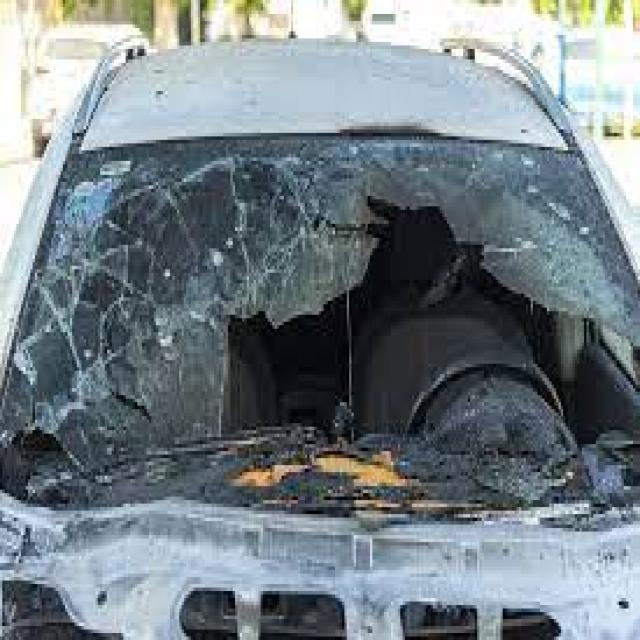moderate: (19, 121, 640, 638)
